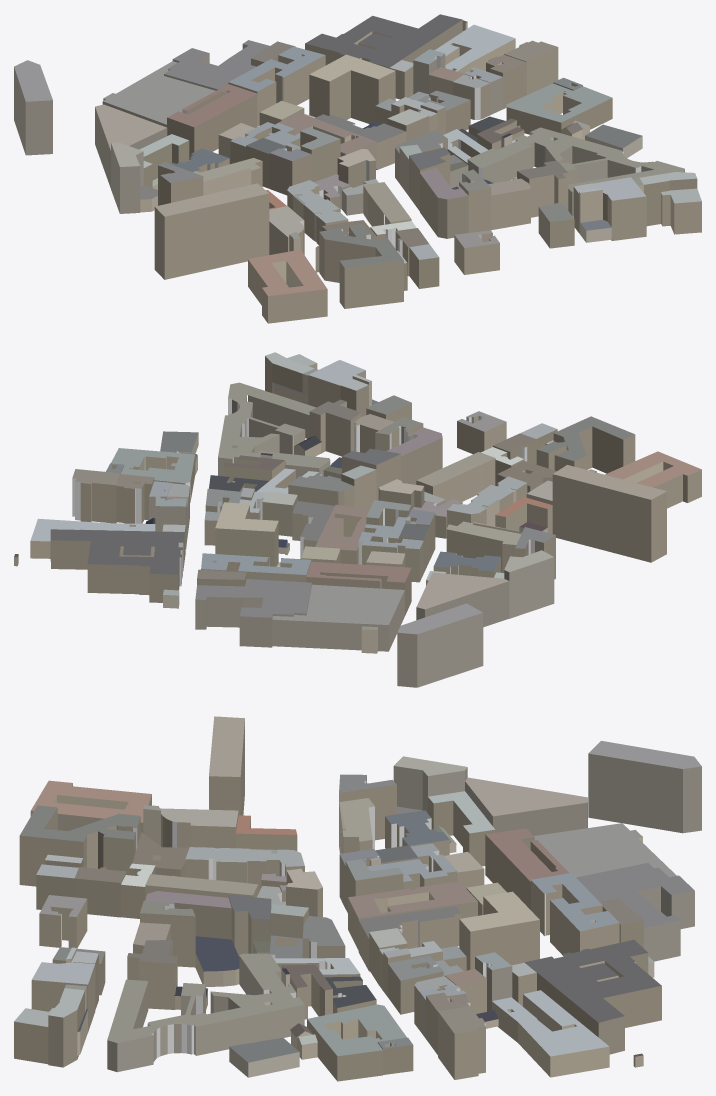
3 renders of one model, top to bottom at view 1: azimuth 30°, elevation 25°; view 2: azimuth 150°, elevation 25°; view 3: azimuth 270°, elevation 25°, orthographic. The views are drawn at different scales.
Parts seen in each view (by area): view 1: tuile; view 2: tuile; view 3: tuile.
Boxes of the visible parts, left/top/right/bottom form: tuile: left=14, top=14, right=701, bottom=323; tuile: left=14, top=352, right=701, bottom=687; tuile: left=14, top=716, right=701, bottom=1081.
Size of the model in its own units: 282 by 35.49 by 281.
